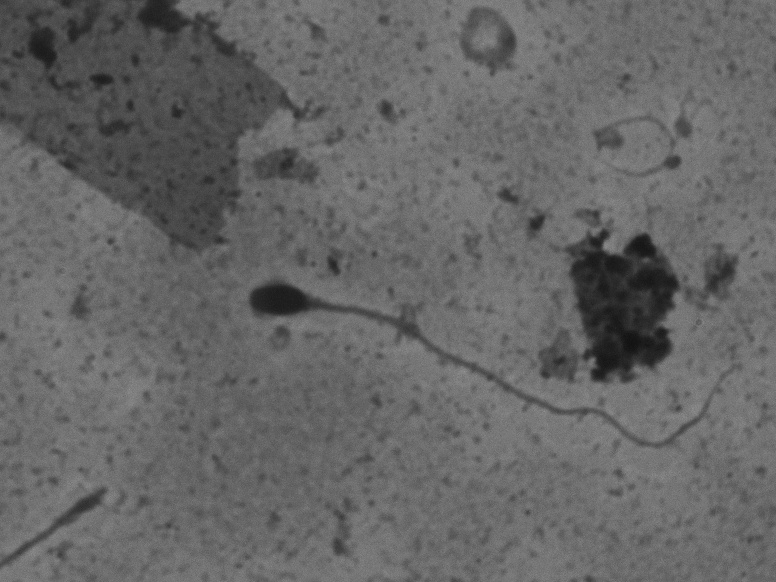Normal: (241, 270, 762, 474)
